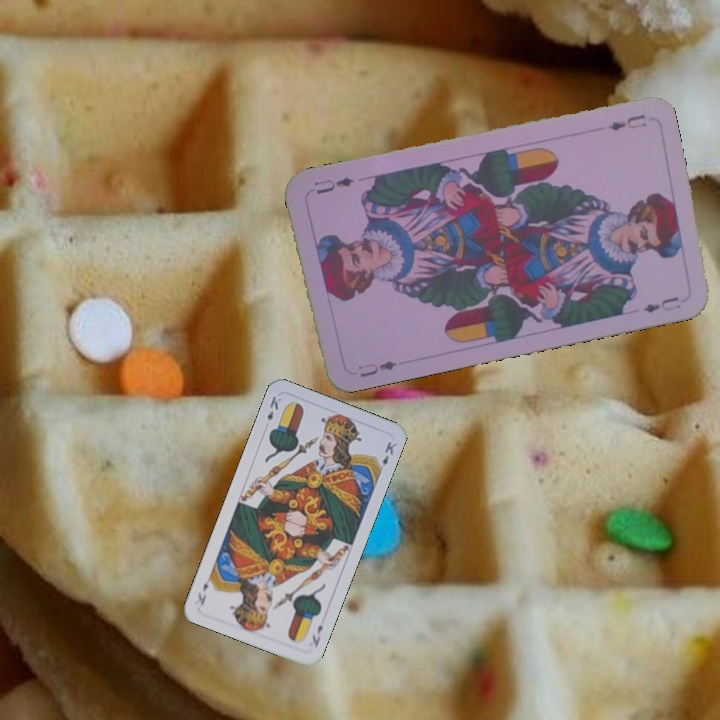EK: (263, 392, 284, 424), (308, 621, 325, 650)
EU: (354, 357, 400, 381), (604, 110, 649, 134)
